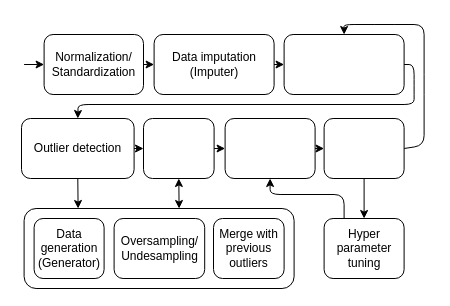
This 450x306 diagram has some shape labels left out. Here are the shapes that lost their labels. From the top down, the box of each, then its label:
(283, 34, 404, 94): Feature engineering [feature selection, dimensionality reduction]
(142, 118, 214, 178): Dataset Balancing
(224, 118, 315, 178): Classification
(323, 118, 404, 178): Evaluation
